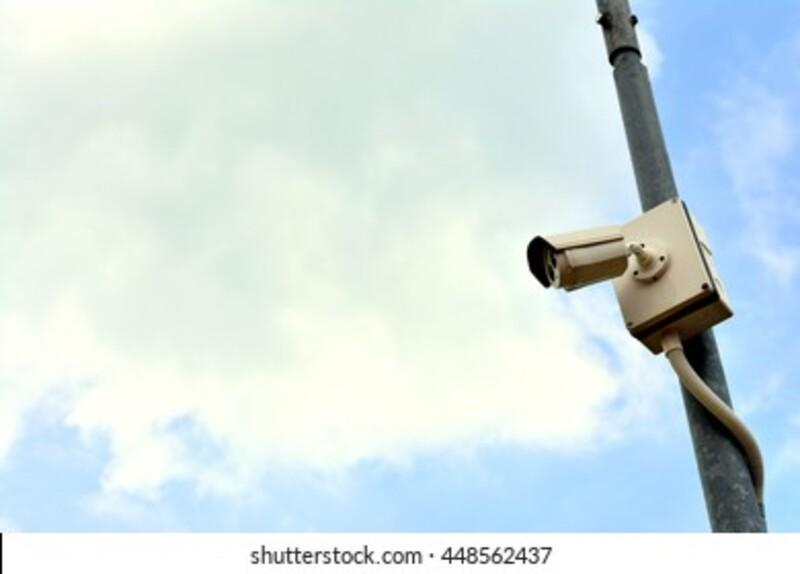box: (522, 213, 633, 295)
